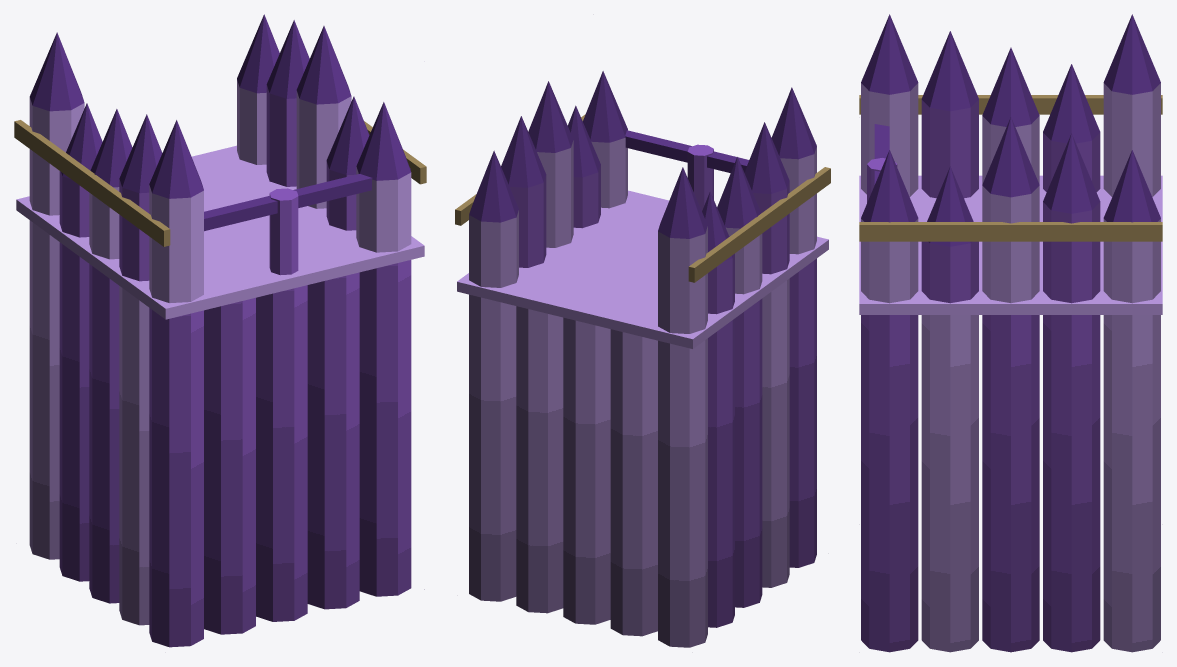
Rendered from perimeter_wall_crystal_f1.glb.
The picture shows the model from 3 angles, left to right: view 1: azimuth 30°, elevation 25°; view 2: azimuth 150°, elevation 25°; view 3: azimuth 270°, elevation 25°; orthographic projection. The views are drawn at different scales.
Bounding box in the file's own units: 2.03 × 3.9 × 2.
1 material, 1 textured.
